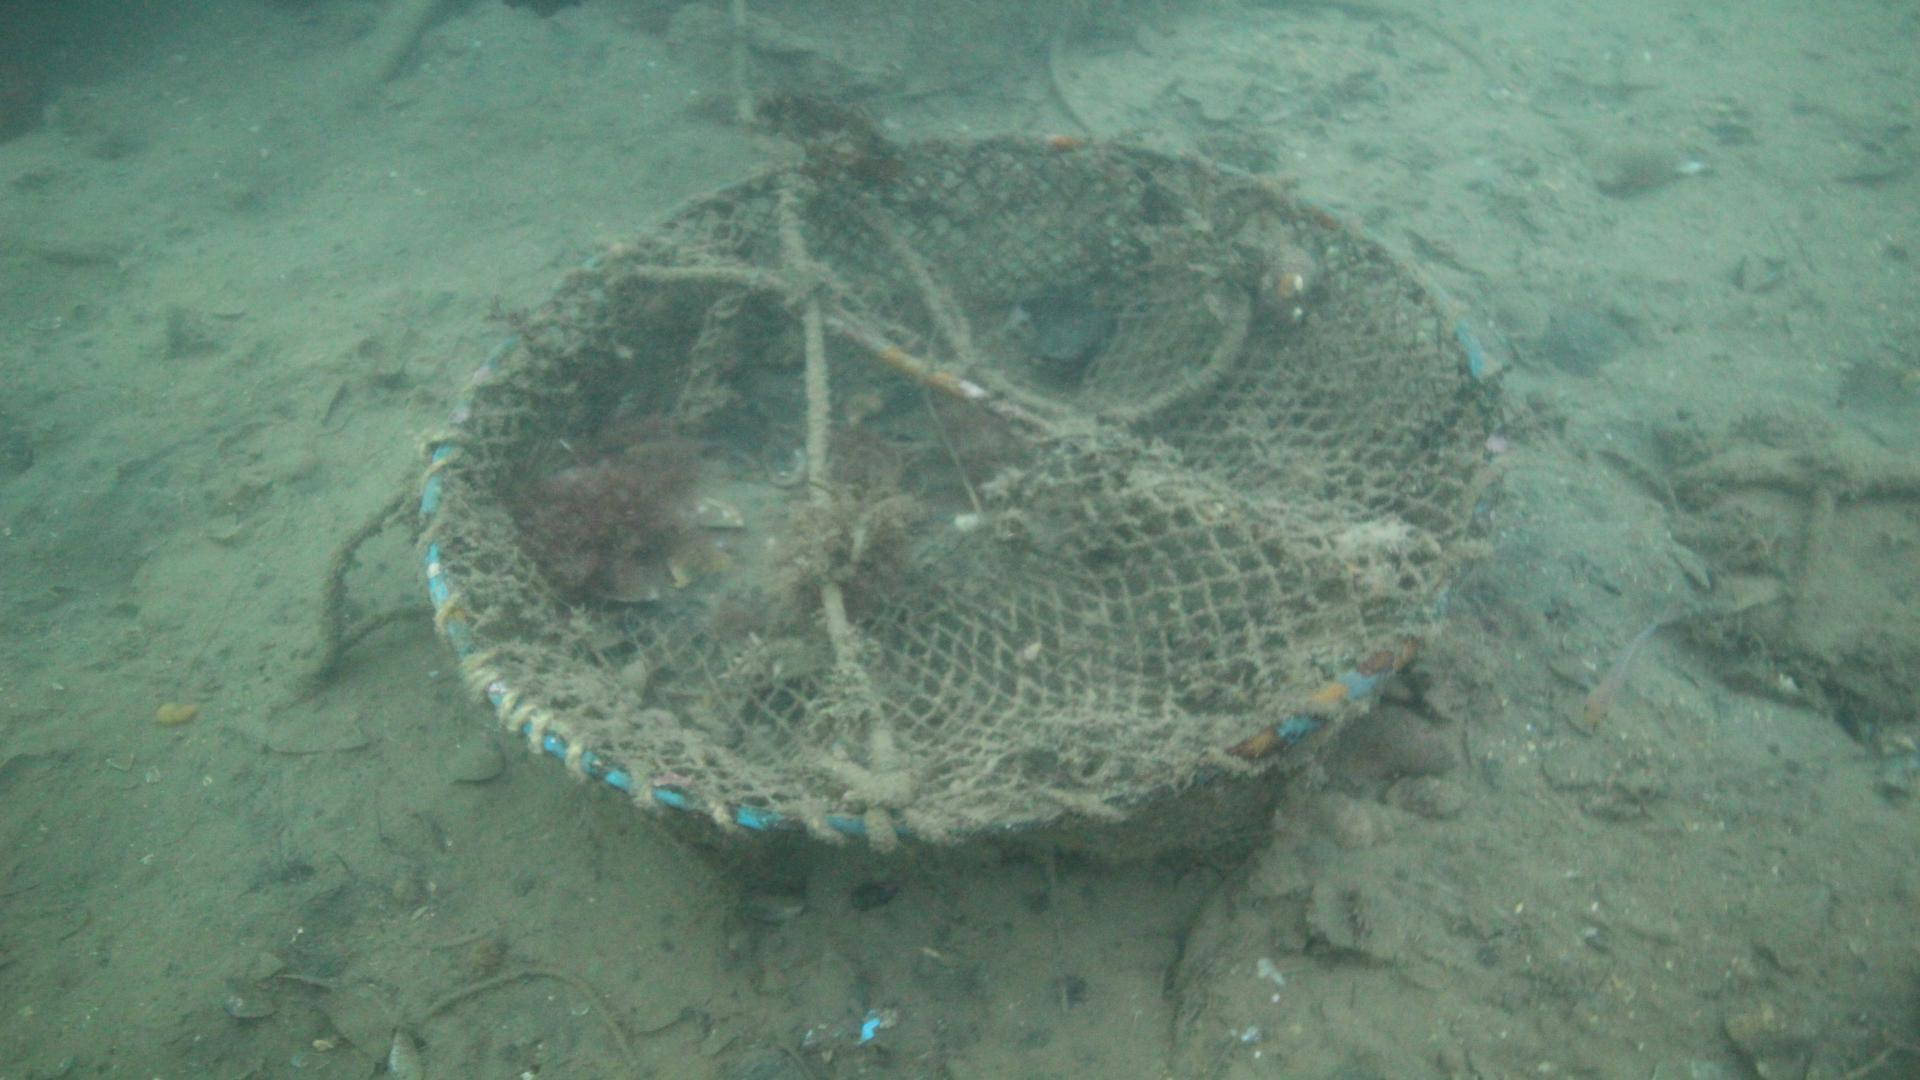circular fish trap: (414, 127, 1509, 851)
